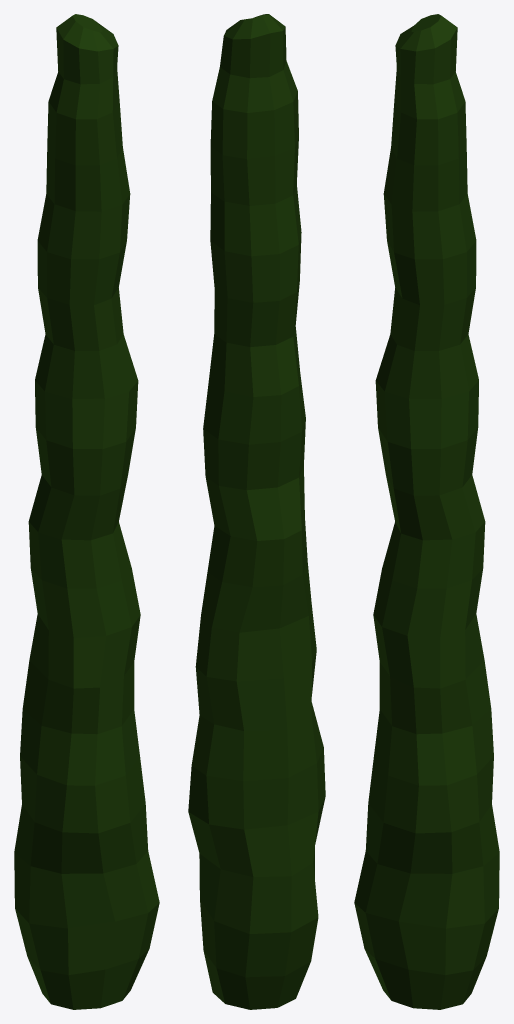
File: cactus2.obj
3 renders of one model, left to right at view 1: azimuth 90°, elevation 25°; view 2: azimuth 210°, elevation 25°; view 3: azimuth 270°, elevation 25°, orthographic.
Visible parts, largest first — view 1: Cylinder.002_Cylinder; view 2: Cylinder.002_Cylinder; view 3: Cylinder.002_Cylinder.
Part boxes in pixels (box(x1,y1,x2,y2)): Cylinder.002_Cylinder: box(14, 14, 159, 1009); Cylinder.002_Cylinder: box(188, 14, 325, 1009); Cylinder.002_Cylinder: box(354, 14, 499, 1009).
Bounding box in the file's own units: 1.27 × 9.74 × 1.31.
